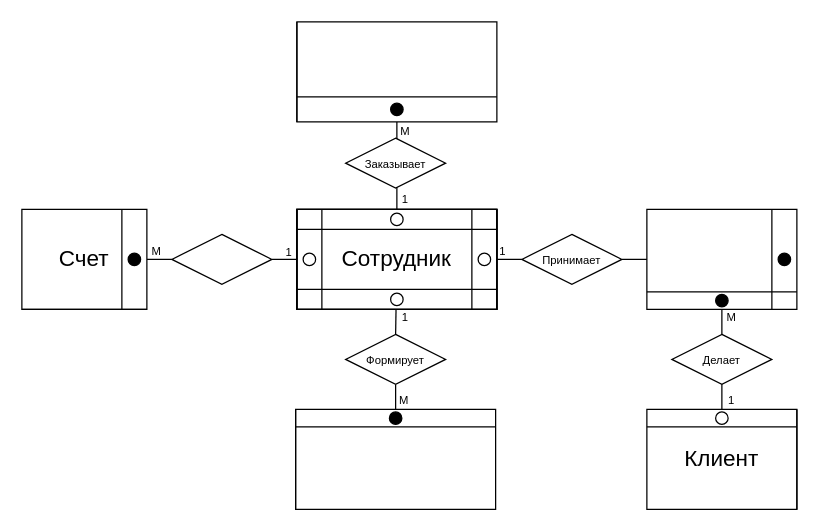
Some shapes in this 819 by 531 pixel diagram are drawn without their labels. The centre of each missing label's shape, as x and y in pixels:
"Договор" goes at point (395, 458).
"Заявка" goes at point (721, 258).
"Карта" goes at point (396, 71).
"Открывает" goes at point (221, 258).
